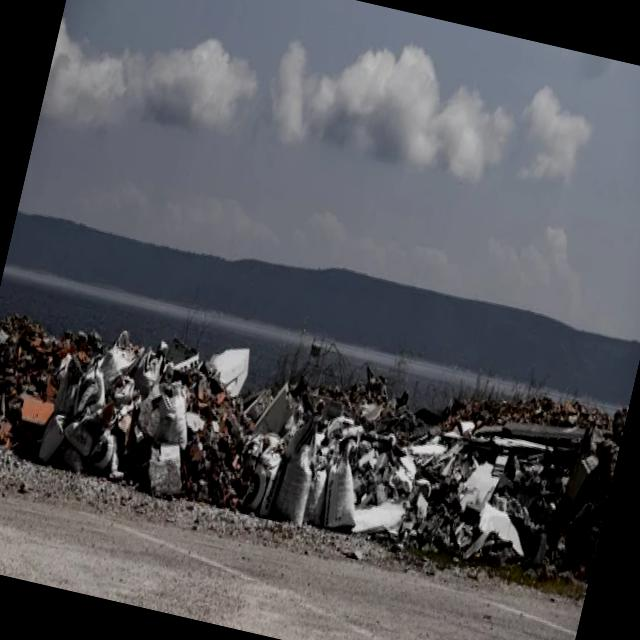garbage: (0, 248, 574, 614)
